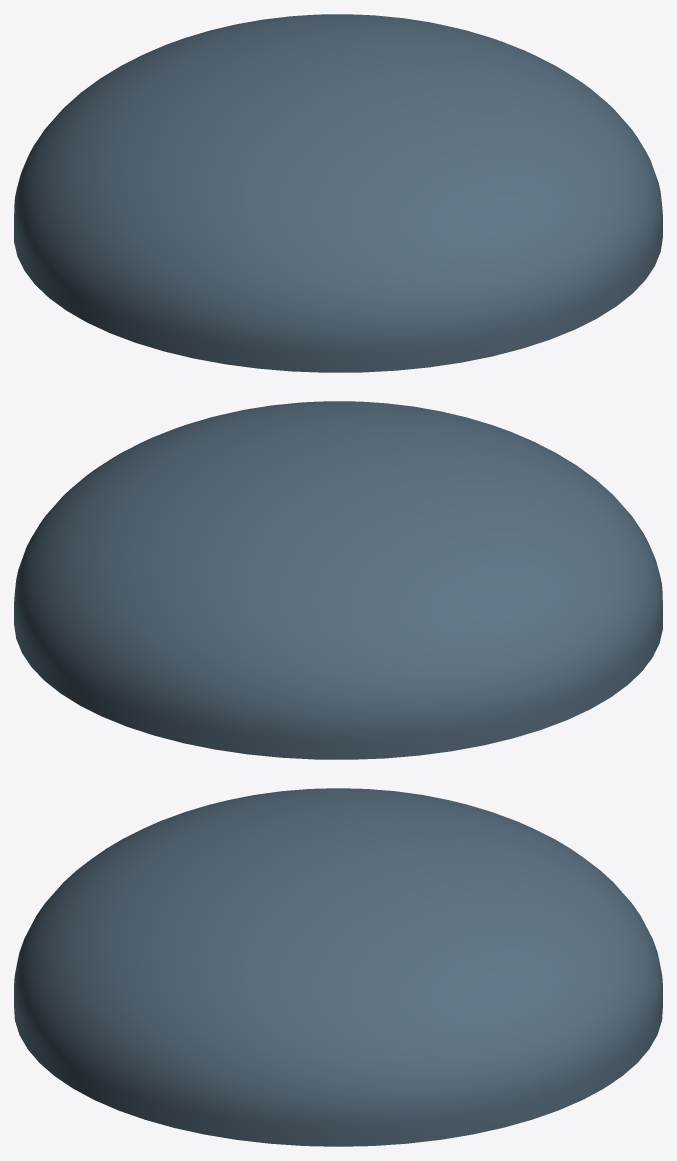
The model's file is dnishche-720x10.glb.
3 views of the same model, one above another, from view 1: azimuth 30°, elevation 25°; view 2: azimuth 150°, elevation 25°; view 3: azimuth 270°, elevation 25° (orthographic).
Parts seen in each view (by area): view 1: Open CASCADE STEP translator 7.9 25; view 2: Open CASCADE STEP translator 7.9 25; view 3: Open CASCADE STEP translator 7.9 25.
Boxes of the visible parts, box(x1,y1,x2,y2) form: Open CASCADE STEP translator 7.9 25: box(14, 14, 662, 372); Open CASCADE STEP translator 7.9 25: box(14, 401, 662, 759); Open CASCADE STEP translator 7.9 25: box(14, 788, 662, 1146).
Bounding box in the file's own units: 719 × 205 × 720.
